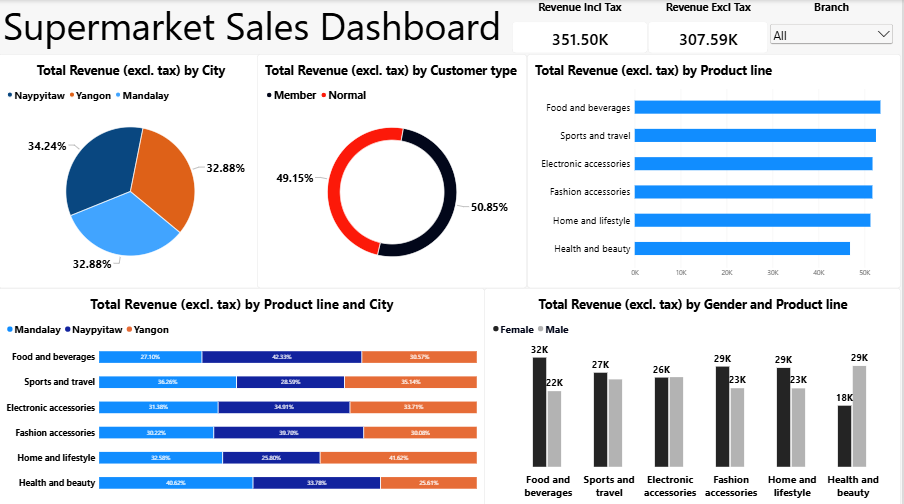

Layout of this report page (visuals, bound fields, positions):
{"tool":"powerbi","page":{"name":"Sales Overview","canvas":[1920,1080],"ordinal":0},"visuals":[{"type":"textbox","box":[10.1,0,1083.5,113.4],"z":0},{"type":"cardVisual","title":"Revenue Incl Tax","fields":{"Data":["Sum(Sheet1.Revenue)"]},"box":[1093,0,288.4,114],"z":1000},{"type":"cardVisual","title":"Revenue Excl Tax","fields":{"Data":["Sheet1.Revenue Excl Tax"]},"box":[1381.4,0,255.8,114],"z":2000},{"type":"slicer","title":"Branch","fields":{"Values":["Sheet1.Branch"]},"box":[1637.2,0,269.8,114],"z":3000},{"type":"pieChart","title":"Total Revenue (excl. tax) by City","fields":{"Category":["Sheet1.City"],"Y":["Sheet1.Revenue Excl Tax"]},"box":[0,114,562.8,497.7],"z":4000},{"type":"donutChart","title":"Total Revenue (excl. tax) by Customer type","fields":{"Category":["Sheet1.Customer type"],"Y":["Sheet1.Revenue Excl Tax"]},"box":[551.2,114,574.4,497.7],"z":5000},{"type":"clusteredBarChart","title":"Total Revenue  (excl. tax) by Product line","fields":{"Category":["Sheet1.Product line"],"Y":["Sheet1.Revenue Excl Tax"]},"box":[1125.6,114,795.3,497.7],"z":6000},{"type":"hundredPercentStackedBarChart","title":"Total Revenue (excl. tax) by Product line and City","fields":{"Category":["Sheet1.Product line"],"Series":["Sheet1.City"],"Y":["Sheet1.Revenue Excl Tax"]},"box":[0,611.6,1034.9,467.4],"z":7000},{"type":"clusteredColumnChart","title":"Total Revenue (excl. tax) by Gender and Product line ","fields":{"Category":["Sheet1.Product line"],"Series":["Sheet1.Gender"],"Y":["Sheet1.Revenue Excl Tax"]},"box":[1033.2,612.3,886,467.4],"z":8000}]}

Visuals, with their boxes in screenshot pixels (x1, y1, x2, y2), scaled from the page's 1920x1080 canvas onto the 904x504 screenshot:
textbox: Rect(5, 0, 515, 53)
"Revenue Incl Tax" cardVisual: Rect(515, 0, 650, 53)
"Revenue Excl Tax" cardVisual: Rect(650, 0, 771, 53)
"Branch" slicer: Rect(771, 0, 898, 53)
"Total Revenue (excl. tax) by City" pieChart: Rect(0, 53, 265, 285)
"Total Revenue (excl. tax) by Customer type" donutChart: Rect(260, 53, 530, 285)
"Total Revenue  (excl. tax) by Product line" clusteredBarChart: Rect(530, 53, 903, 285)
"Total Revenue (excl. tax) by Product line and City" hundredPercentStackedBarChart: Rect(0, 285, 487, 503)
"Total Revenue (excl. tax) by Gender and Product line " clusteredColumnChart: Rect(486, 286, 903, 503)
